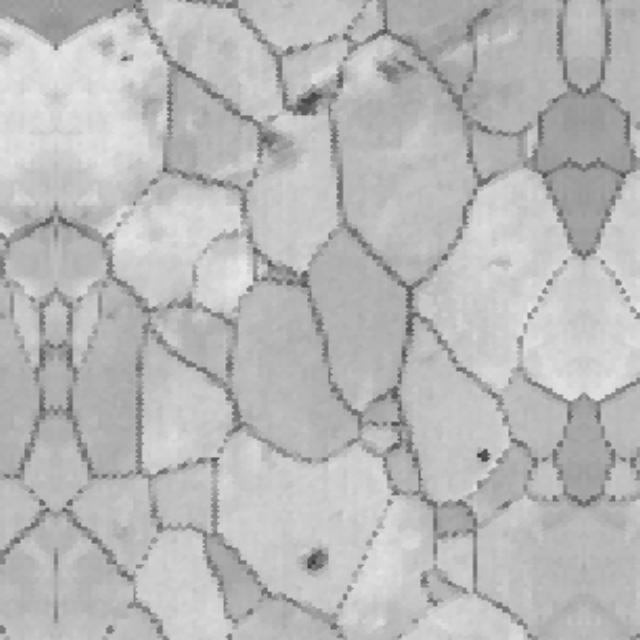good_void: (290, 82, 332, 127), (373, 45, 417, 87), (289, 545, 339, 577), (483, 245, 520, 282), (466, 439, 501, 471), (380, 435, 409, 459), (109, 44, 135, 68), (92, 619, 121, 640), (210, 625, 233, 640)
